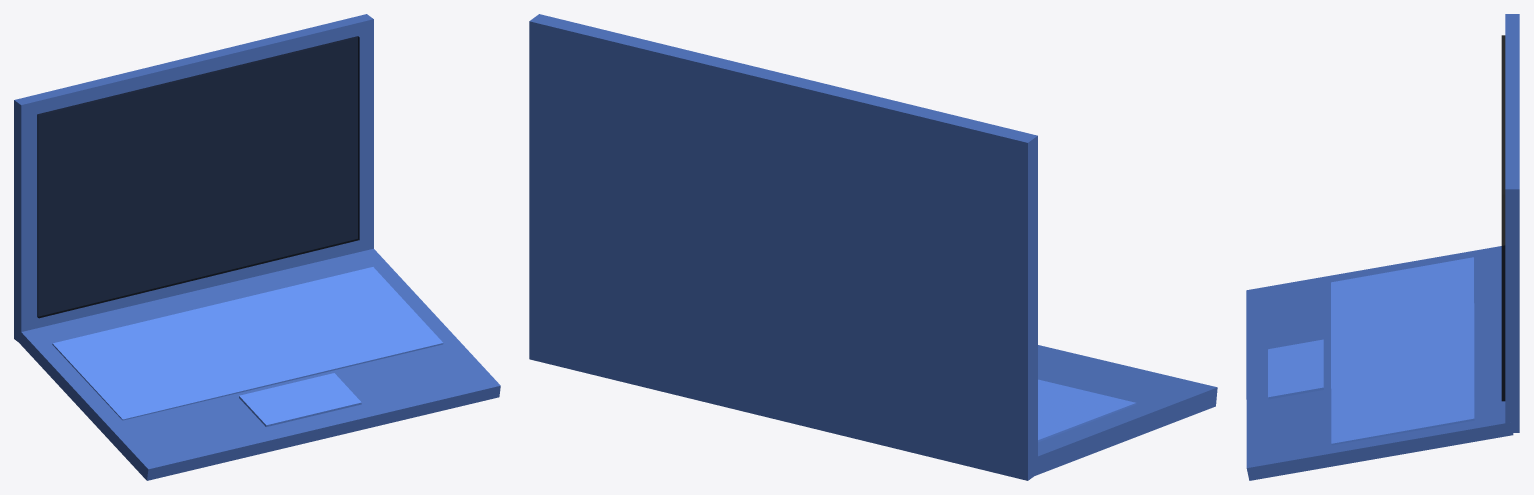
File: laptop2.gltf
3 views of the same model, side by side, from view 1: azimuth 30°, elevation 25°; view 2: azimuth 150°, elevation 25°; view 3: azimuth 270°, elevation 25° (orthographic). The views are drawn at different scales.
Parts seen in each view (by area): view 1: Cube, Cube.002, Cube.001, Cube.003, Cube.004; view 2: Cube, Cube.001, Cube.003; view 3: Cube.003, Cube.001, Cube, Cube.004, Cube.002.
Boxes of the visible parts, x1,y1,x2,y2 form: Cube: (14, 14, 373, 341); Cube.002: (37, 36, 359, 318); Cube.001: (17, 248, 500, 480); Cube.003: (52, 267, 443, 420); Cube.004: (239, 373, 361, 426); Cube: (529, 14, 1037, 480); Cube.001: (1032, 345, 1217, 476); Cube.003: (1038, 379, 1136, 442); Cube.003: (1331, 257, 1474, 445); Cube.001: (1246, 246, 1513, 480); Cube: (1505, 14, 1519, 432); Cube.004: (1268, 339, 1324, 399); Cube.002: (1501, 35, 1505, 401).
Bounding box in the file's own units: 1.73 × 1.34 × 1.14.
Materials: 3 (1 with a texture image).
